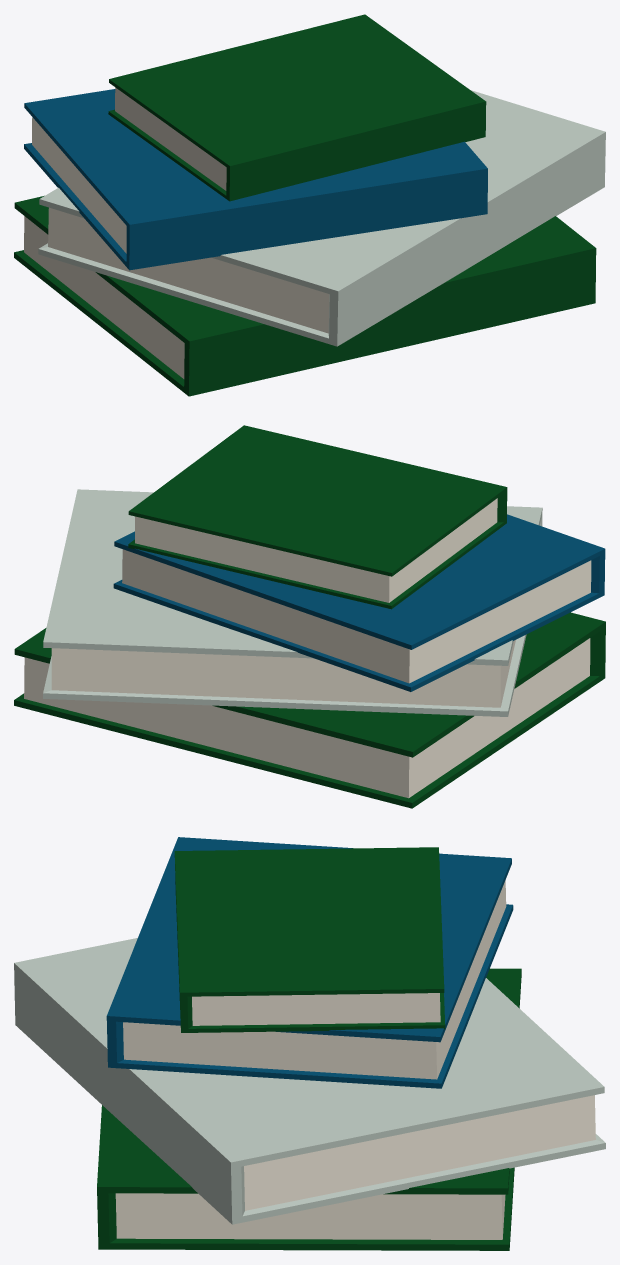
Rendered from Bedroom3_Books11.fbx.
3 views of the same model, one above another, from view 1: azimuth 30°, elevation 25°; view 2: azimuth 150°, elevation 25°; view 3: azimuth 270°, elevation 25° (orthographic). The views are drawn at different scales.
Visible parts, largest first — view 1: Bedroom3_Books11; view 2: Bedroom3_Books11; view 3: Bedroom3_Books11.
Part boxes in pixels (x1,y1,x2,y2): Bedroom3_Books11: [14, 14, 605, 396]; Bedroom3_Books11: [14, 425, 605, 808]; Bedroom3_Books11: [14, 837, 605, 1250].
Bounding box in the file's own units: 50.22 × 45.9 × 18.72.
